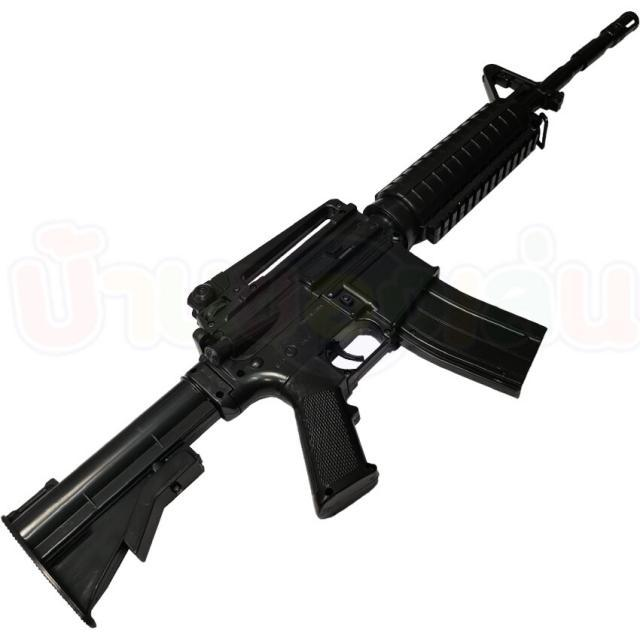m16: (29, 19, 624, 626)
